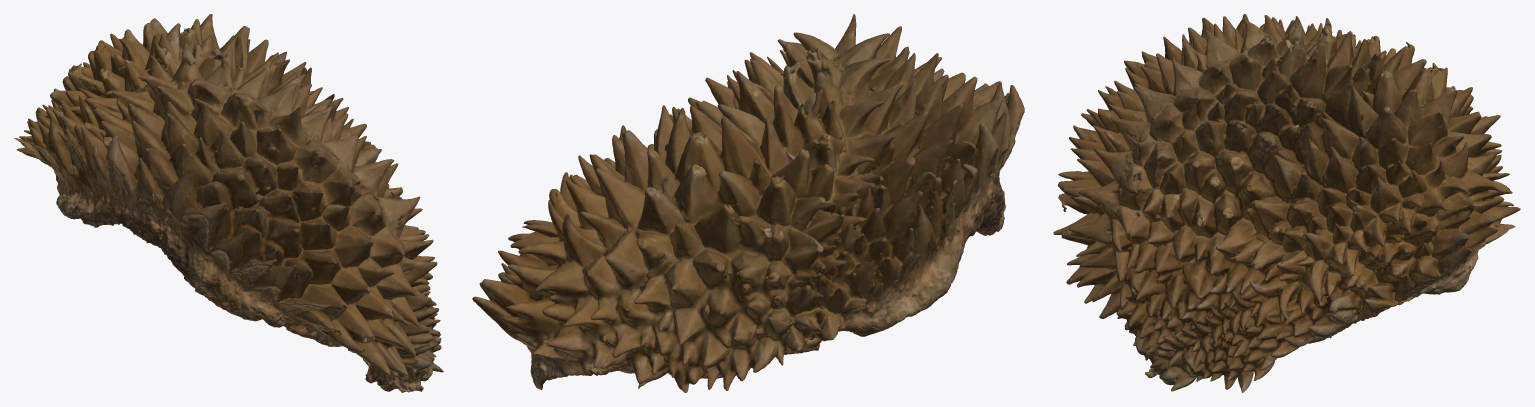
Rendered from 静物_水果_durian_fruit_skin_opt.glb.
3 views of the same model, side by side, from view 1: azimuth 30°, elevation 25°; view 2: azimuth 150°, elevation 25°; view 3: azimuth 270°, elevation 25° (orthographic). The views are drawn at different scales.
Visible parts, largest first — view 1: Object_2; view 2: Object_2; view 3: Object_2.
Part boxes in pixels (x1,y1,x2,y2): Object_2: [14, 14, 443, 392]; Object_2: [472, 14, 1024, 392]; Object_2: [1053, 14, 1520, 392].
Size of the model in its own units: 0.1 by 0.0937 by 0.132.
1 material, 1 textured.
